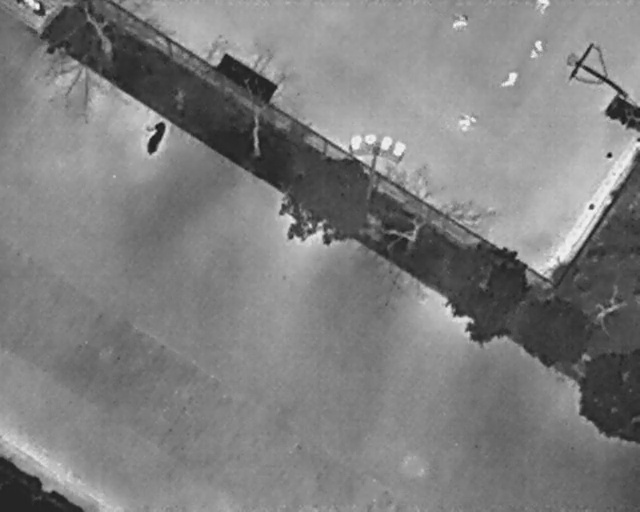Bicycle: (140, 116, 171, 159)
Person: (526, 37, 548, 63), (500, 66, 522, 92), (457, 112, 477, 132), (27, 0, 46, 18), (451, 13, 469, 29), (533, 0, 550, 16), (14, 0, 26, 8)
